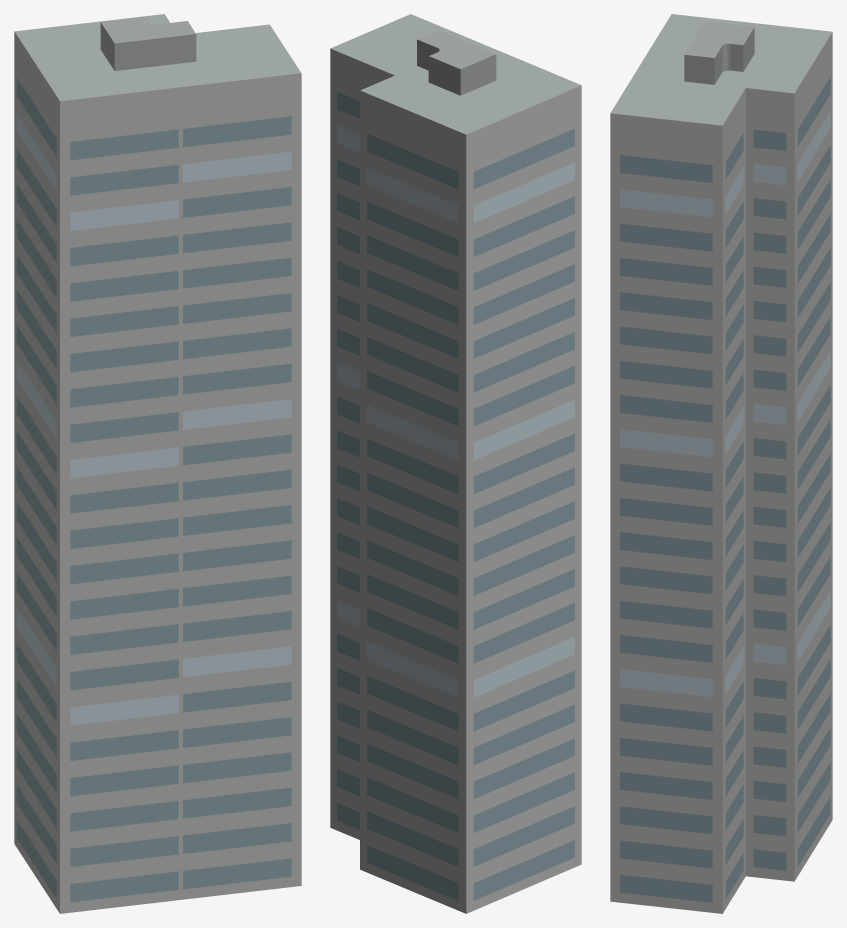
Rendered from fallback-dh-honor-hills-303.glb.
The picture shows the model from 3 angles, left to right: view 1: azimuth 30°, elevation 25°; view 2: azimuth 150°, elevation 25°; view 3: azimuth 270°, elevation 25°; orthographic projection. The views are drawn at different scales.
Parts seen in each view (by area): view 1: fallback-dh-honor-hills-303; view 2: fallback-dh-honor-hills-303; view 3: fallback-dh-honor-hills-303.
Part boxes in pixels (box(x1,y1,x2,y2)): fallback-dh-honor-hills-303: box(14, 14, 301, 913); fallback-dh-honor-hills-303: box(330, 14, 581, 913); fallback-dh-honor-hills-303: box(610, 14, 832, 913).
Bounding box in the file's own units: 21.46 × 73 × 18.04.
